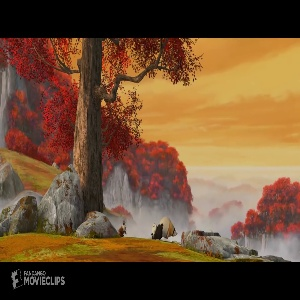po: (150, 214, 180, 240)
shifu: (117, 219, 128, 237)
